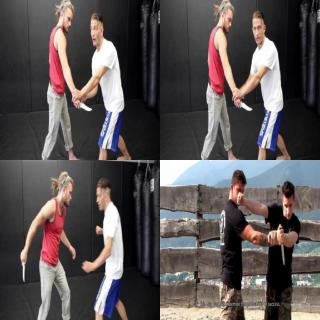knife: (71, 99, 93, 115), (278, 223, 285, 266), (232, 99, 253, 113), (19, 250, 27, 282)
